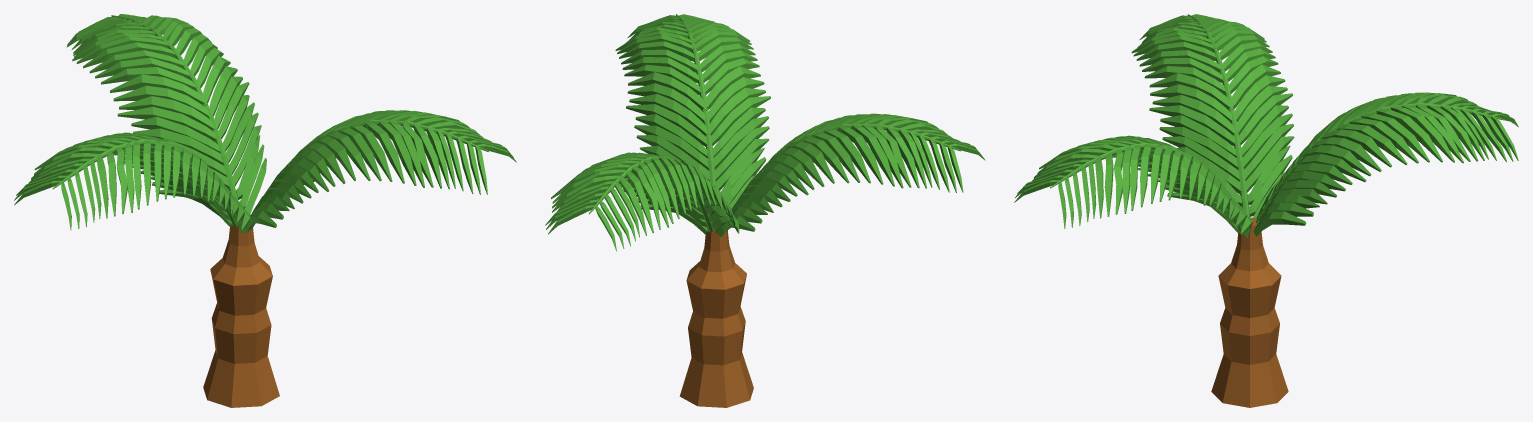
File: ENVI_LV2-3_Palm1.fbx
3 views of the same model, side by side, from view 1: azimuth 30°, elevation 25°; view 2: azimuth 150°, elevation 25°; view 3: azimuth 270°, elevation 25° (orthographic). The views are drawn at different scales.
Parts seen in each view (by area): view 1: Palm1; view 2: Palm1; view 3: Palm1.
Boxes of the visible parts, x1,y1,x2,y2 form: Palm1: (14, 14, 516, 407); Palm1: (545, 14, 985, 407); Palm1: (1014, 14, 1518, 407).
Size of the model in its own units: 303 by 204 by 323.
